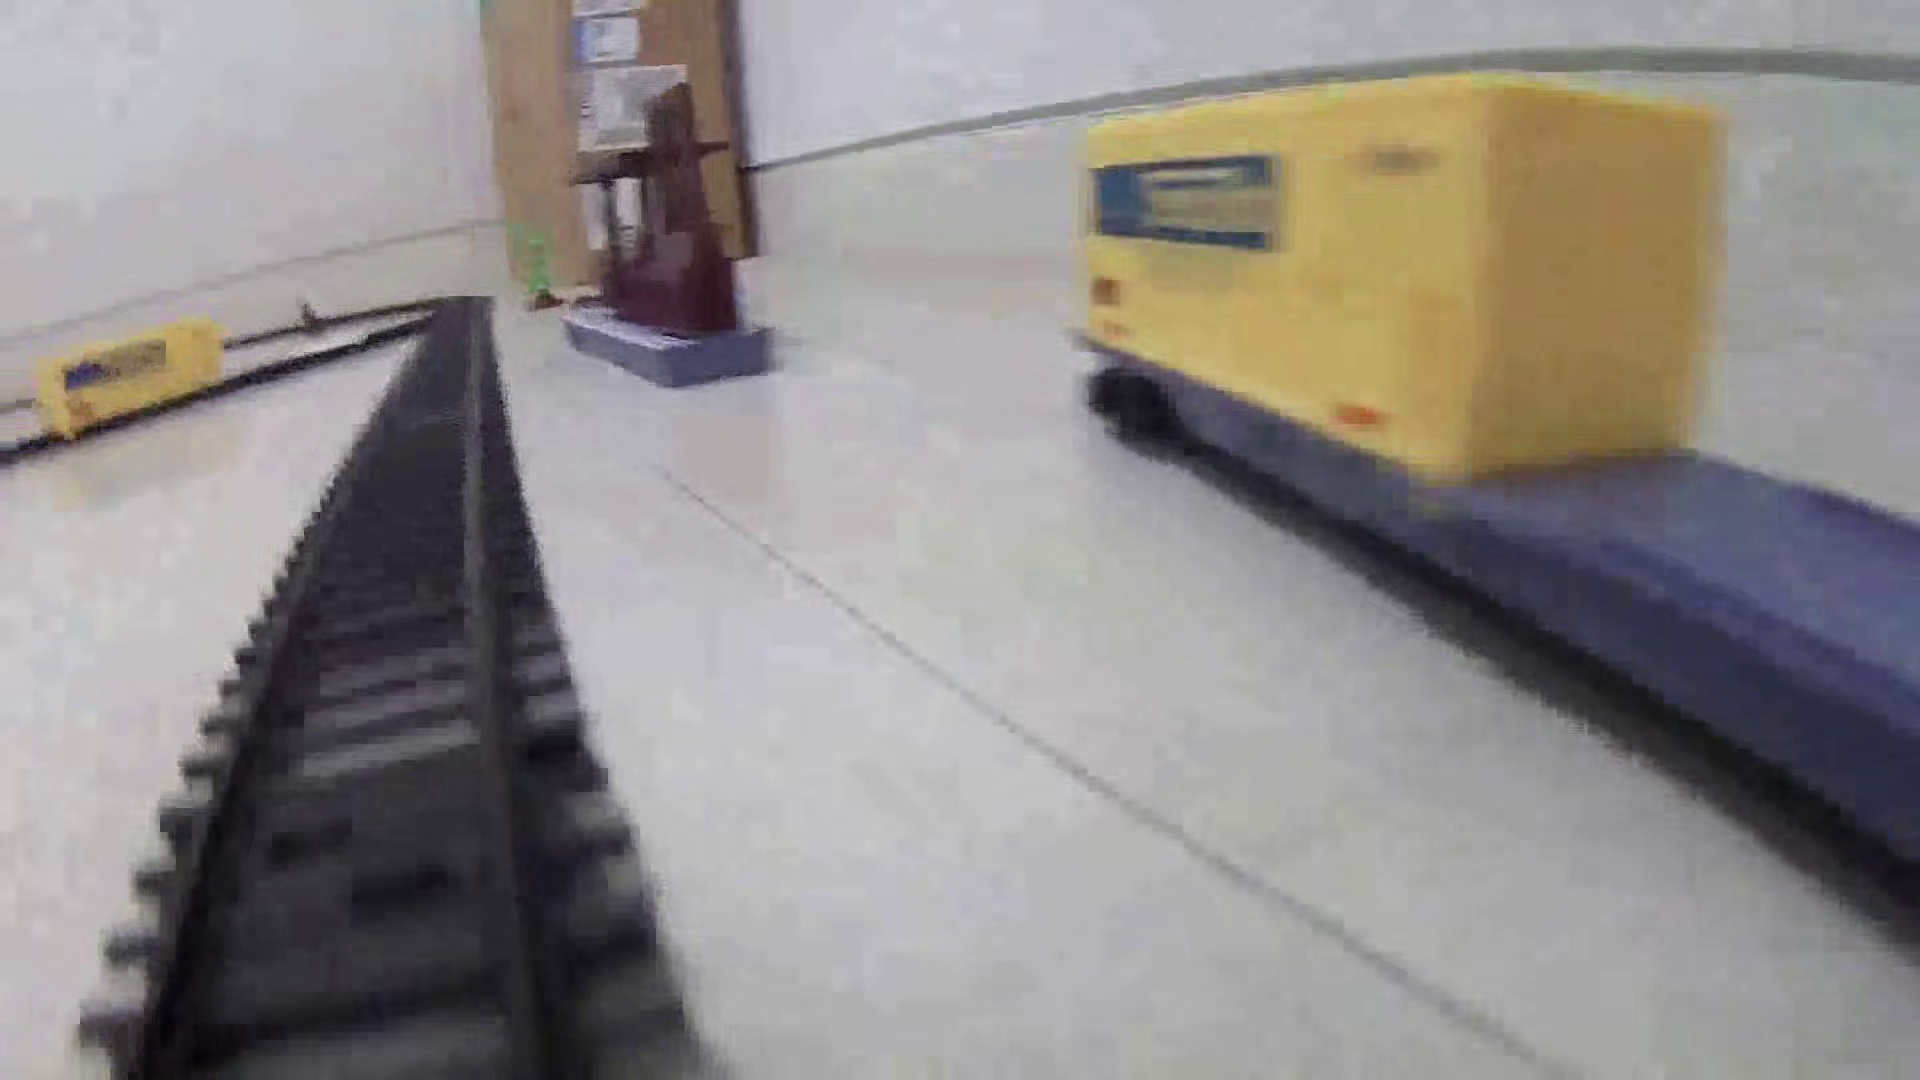tree: (522, 236, 568, 311)
